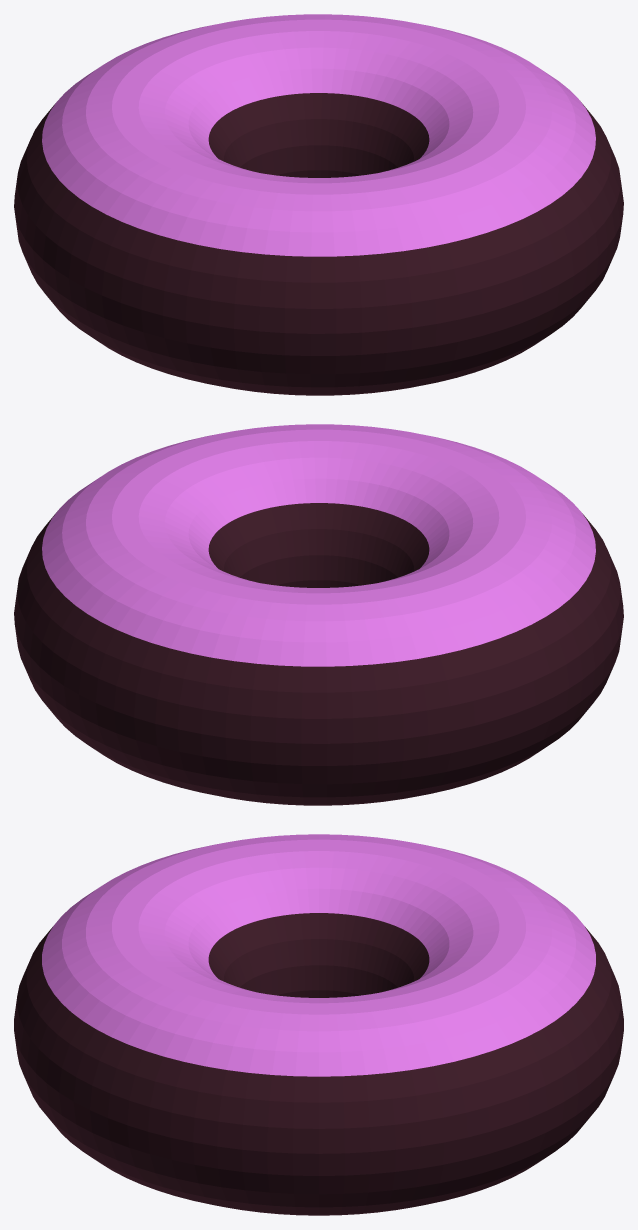
The model's file is dodonut.fbx.
The picture shows the model from 3 angles, top to bottom: view 1: azimuth 30°, elevation 25°; view 2: azimuth 150°, elevation 25°; view 3: azimuth 270°, elevation 25°; orthographic projection.
Visible parts, largest first — view 1: トーラス.001; view 2: トーラス.001; view 3: トーラス.001.
Part boxes in pixels (x1,y1,x2,y2): トーラス.001: [14, 14, 623, 395]; トーラス.001: [14, 424, 623, 805]; トーラス.001: [14, 834, 623, 1215].
Bounding box in the file's own units: 200 × 70.79 × 200.
